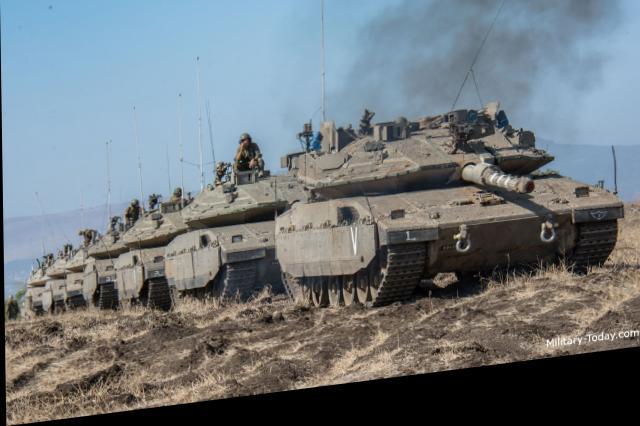tank: (280, 96, 634, 312)
